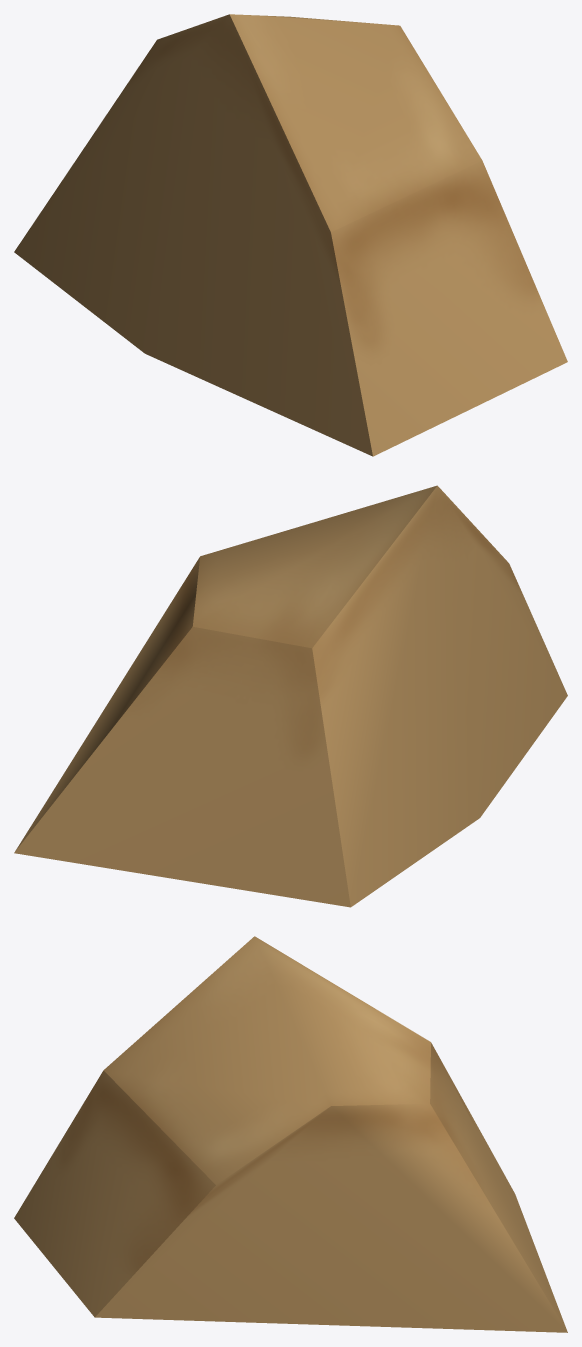
File: rock2.fbx
3 renders of one model, top to bottom at view 1: azimuth 30°, elevation 25°; view 2: azimuth 150°, elevation 25°; view 3: azimuth 270°, elevation 25°, orthographic. The views are drawn at different scales.
Parts seen in each view (by area): view 1: rock2; view 2: rock2; view 3: rock2.
Boxes of the visible parts, bbox=[...] form: rock2: bbox=[14, 14, 567, 456]; rock2: bbox=[14, 485, 567, 907]; rock2: bbox=[14, 936, 567, 1332].
Size of the model in its own units: 60.34 by 56.19 by 99.95.
